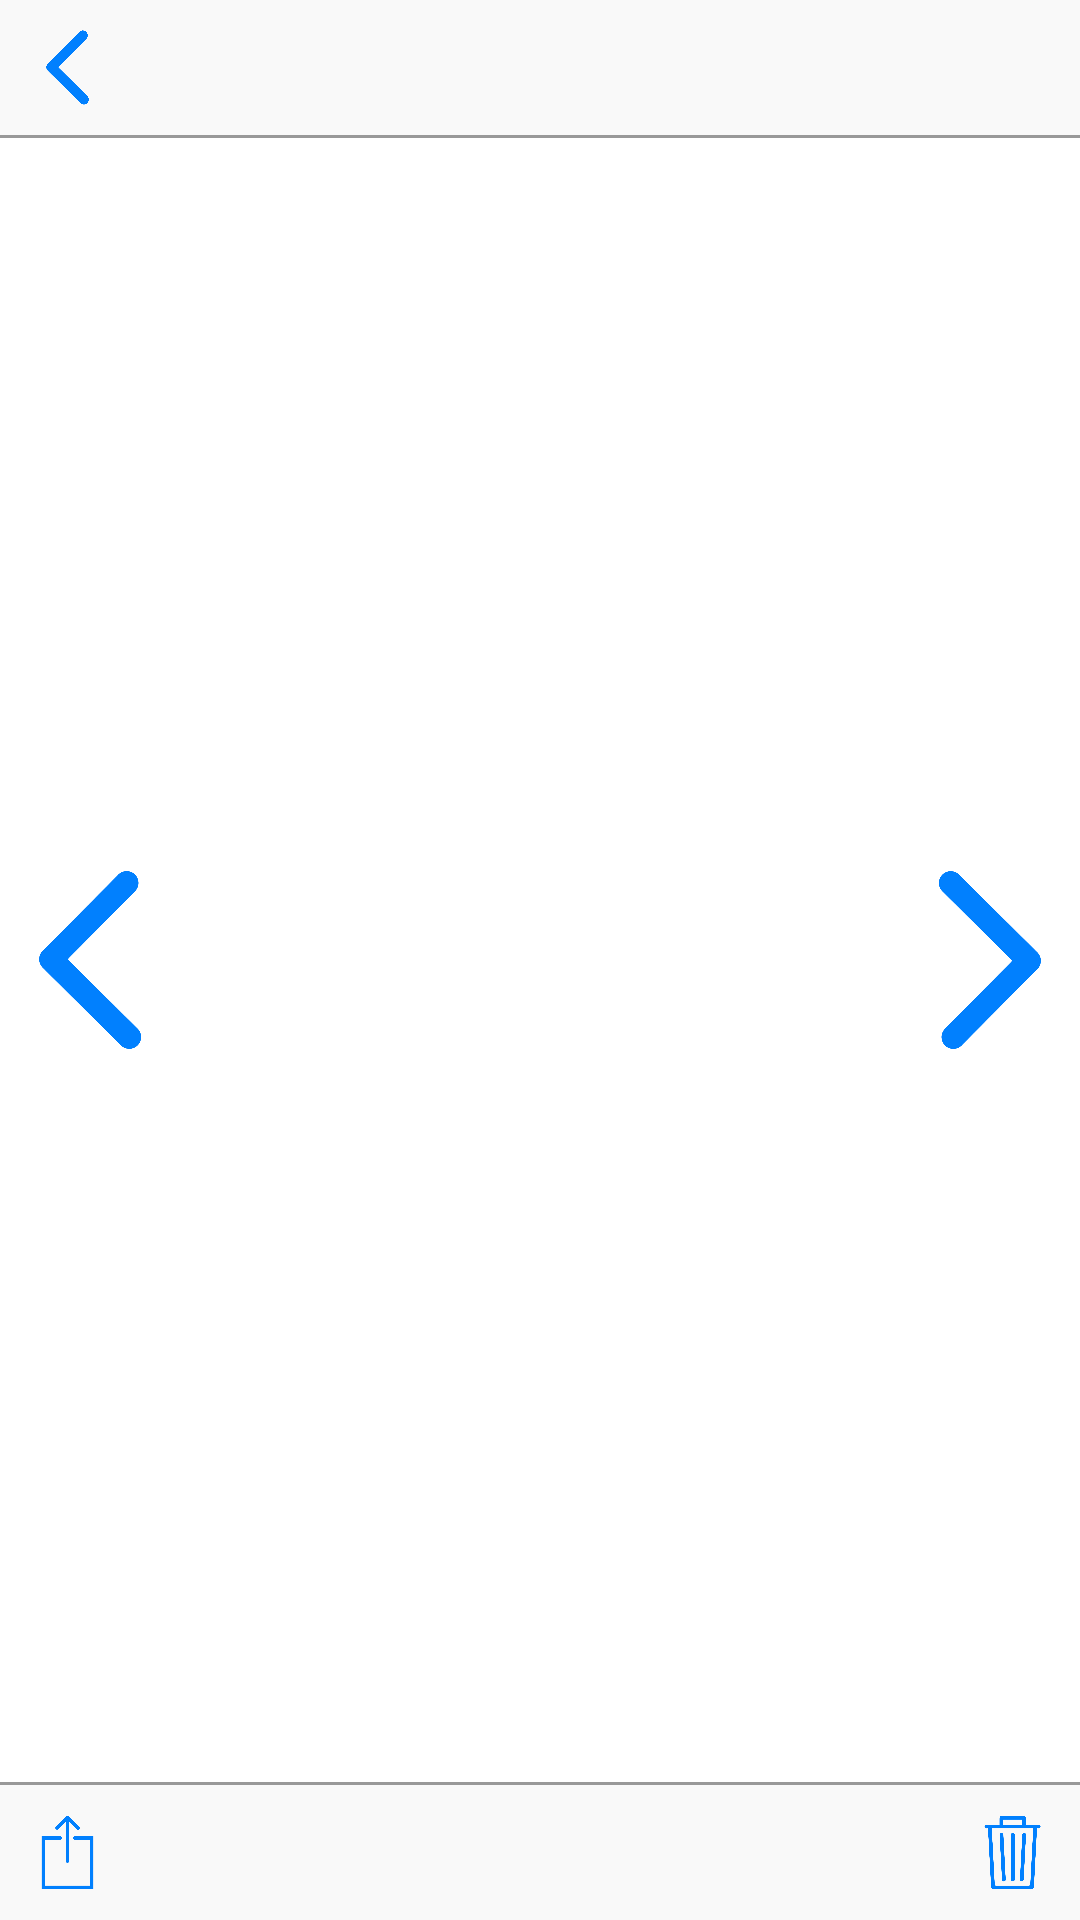

Screen size 1080×1920. Icon name, then its center in pixels as [x,y]:
delete: [1012,1852]
share: [67,1852]
